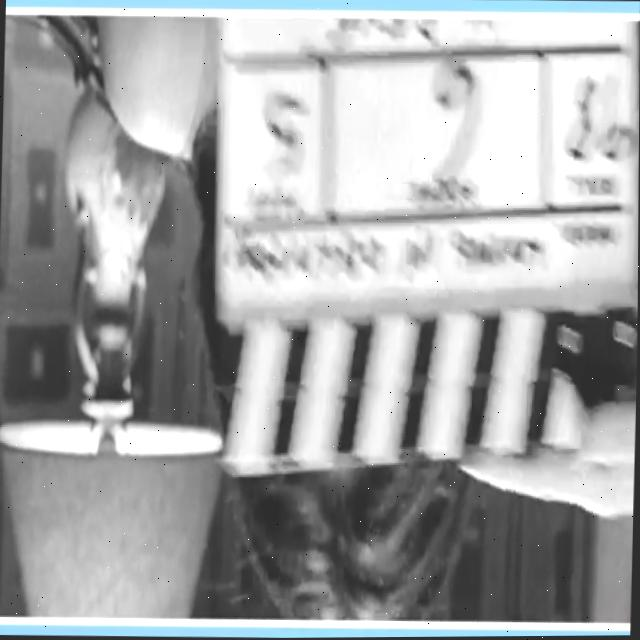Clapperboard: (206, 11, 640, 485)
